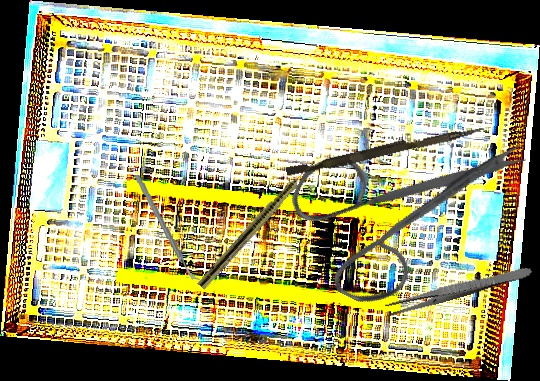Chopper: (134, 170, 201, 286)
Dressing Forceps: (381, 262, 534, 319)
Handpiece: (196, 155, 321, 292)
Iris Scissors: (263, 61, 532, 341)
Pusher: (285, 118, 485, 182)
